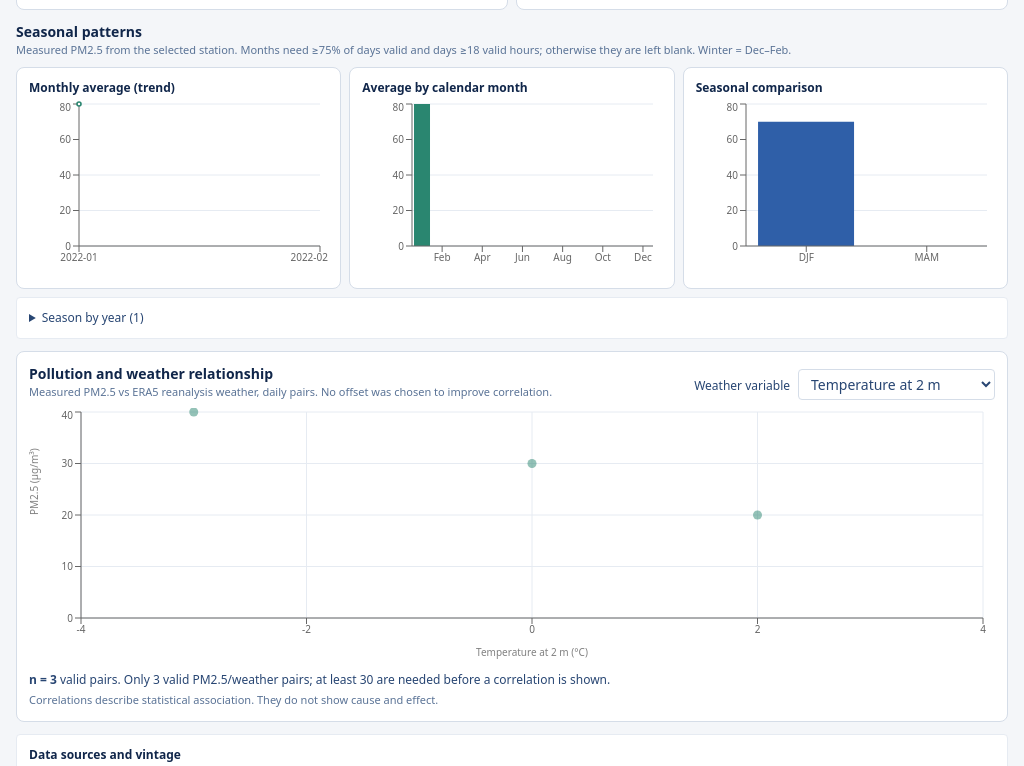
Data & Weather Explorer page › shows the scatter sample size and correlation, labelled as association
This screenshot has width=1024, height=766.
(page scrolled)
Expected: the message with test id "scatter-stats" shows "n = 3 valid pairs", [29, 671, 610, 688]
Expected: the message with test id "scatter-stats" shows "at least 30 are needed", [124, 671, 610, 688]
Step 1. Select "Wind speed at 10 m" in the dropdown labelled "Weather variable" → (896, 384), box [798, 369, 995, 400]
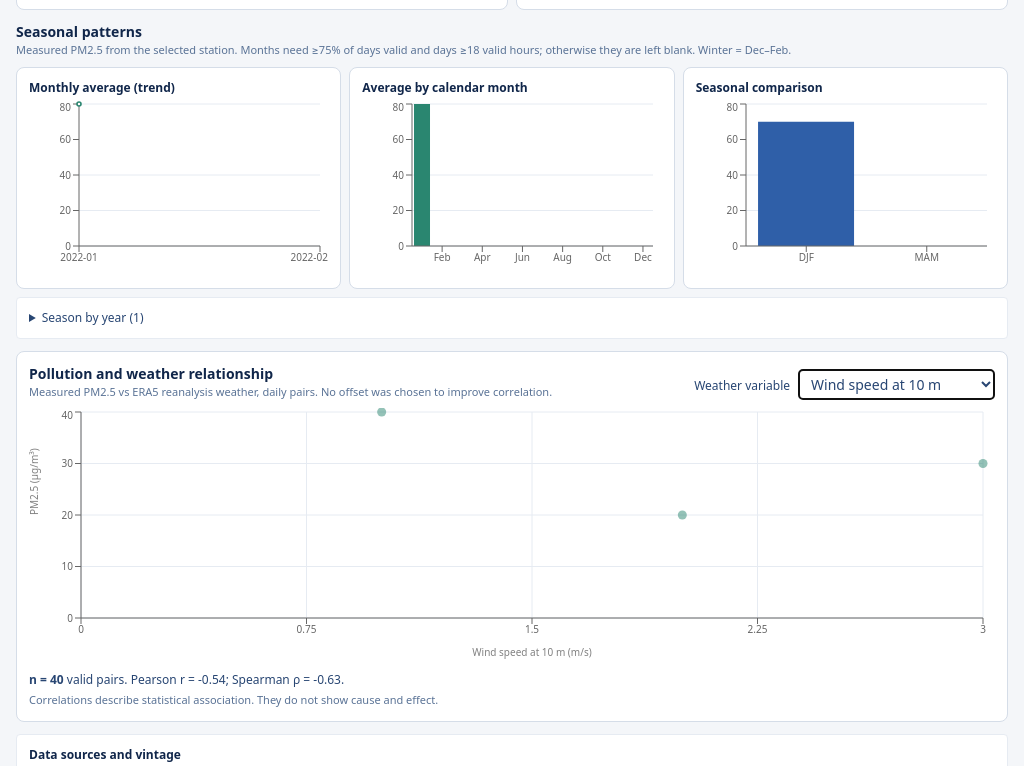
Expected: the text "do not show cause and effect" is shown, [29, 692, 438, 707]
Expected: the message with test id "scatter-stats" shows "Pearson r = -0.54; Spearman ρ = -0.63", [29, 671, 344, 688]
